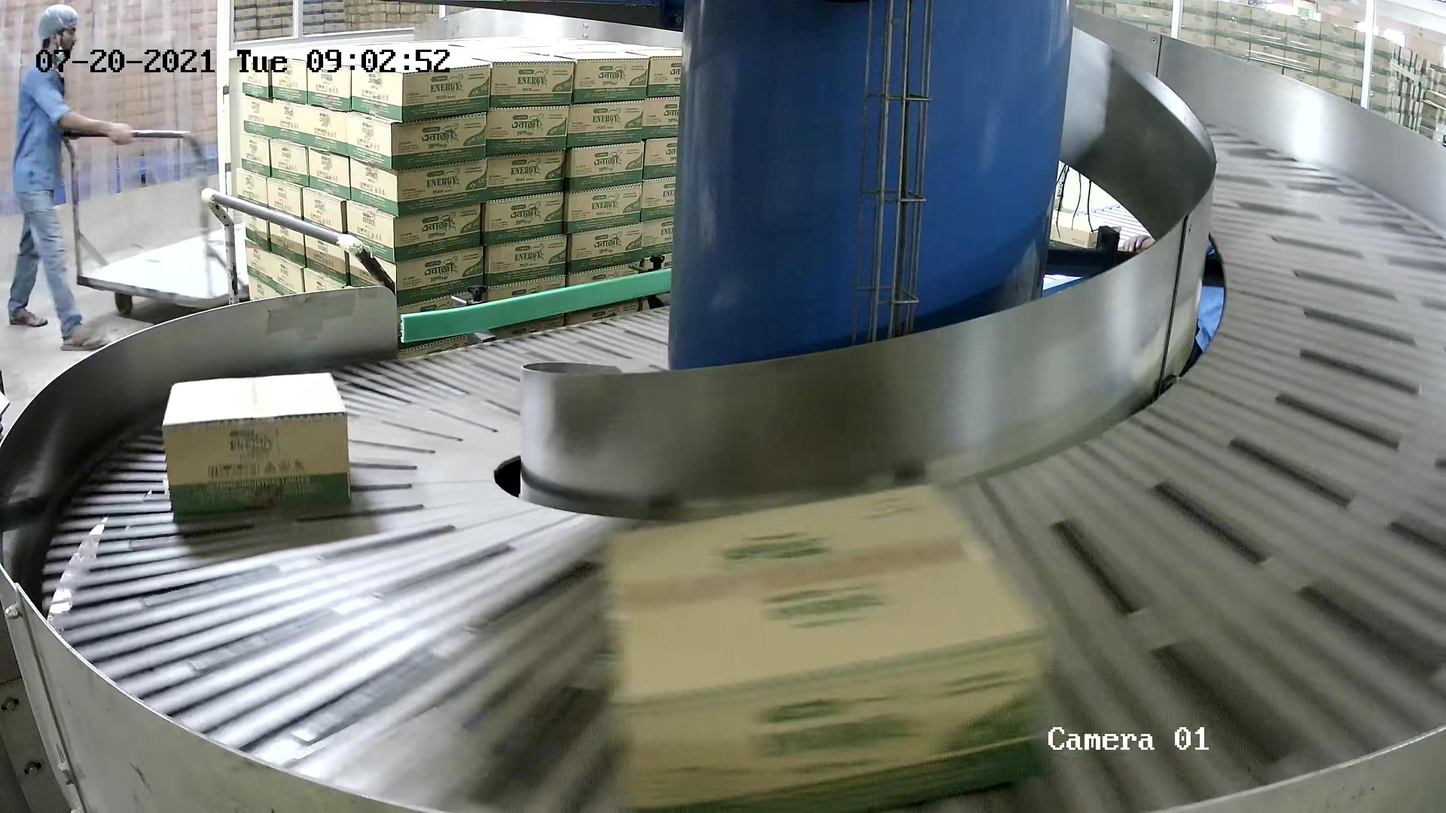Box: (600, 477, 1065, 813), (160, 370, 353, 516)
